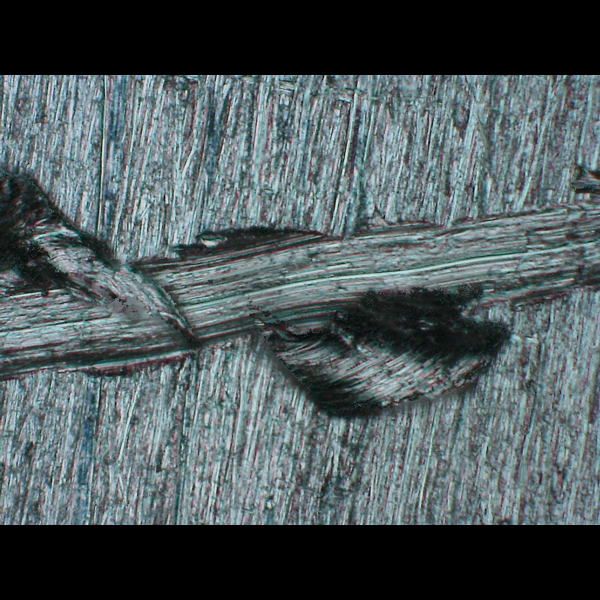d: (0, 156, 599, 430)
